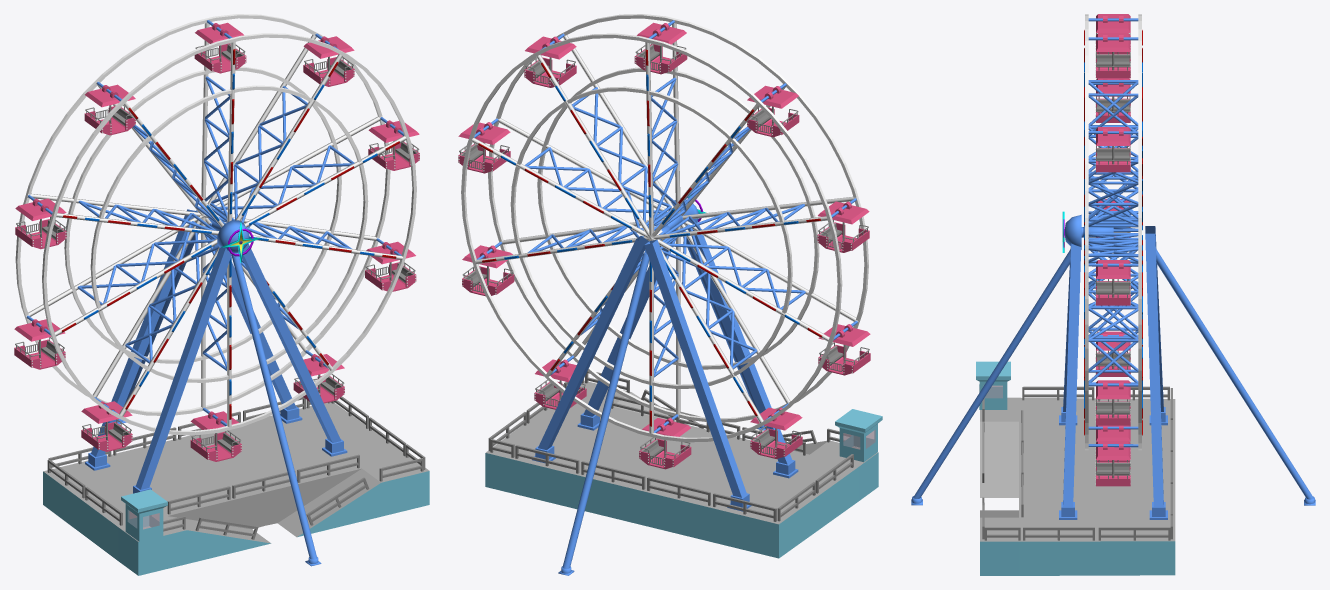
File: Biang lala.fbx
3 renders of one model, left to right at view 1: azimuth 30°, elevation 25°; view 2: azimuth 150°, elevation 25°; view 3: azimuth 270°, elevation 25°, orthographic.
Parts seen in each view (by area): view 1: Pagar; view 2: Pagar; view 3: Pagar.
Part boxes in pixels (x1,y1,x2,y2): Pagar: (14,14,429,575); Pagar: (458,14,882,575); Pagar: (911,14,1315,575).
Bounding box in the file's own units: 2694 × 3080 × 2399.
Materials: 9 (1 with a texture image).
